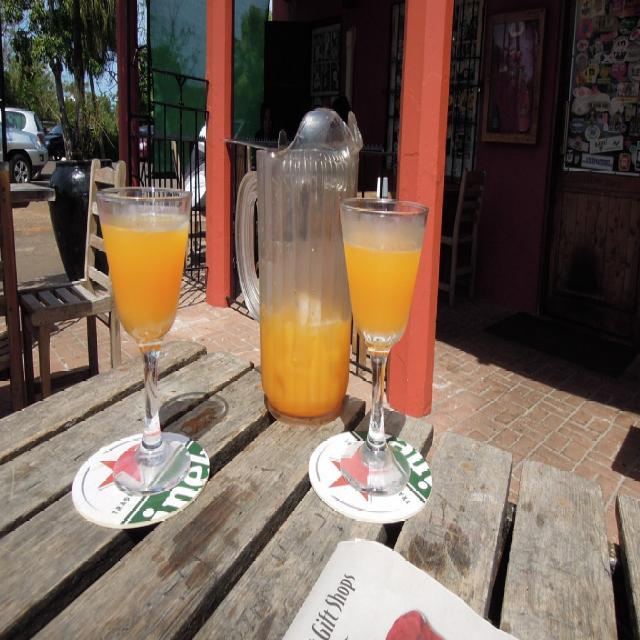Juice: (257, 286, 348, 427), (337, 212, 425, 356), (99, 208, 189, 347)
